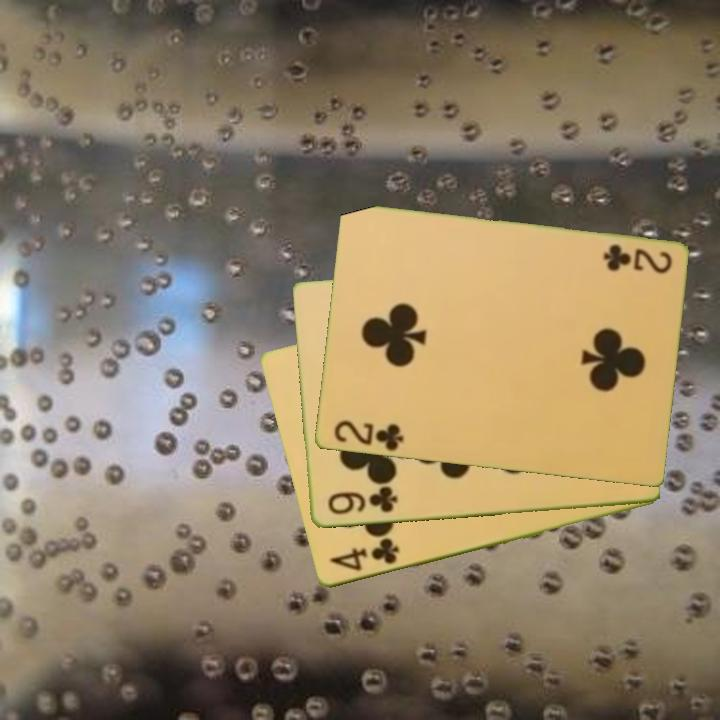2c: (330, 417, 406, 454), (599, 241, 675, 277)
4c: (326, 535, 402, 575)
9c: (324, 485, 400, 518)
